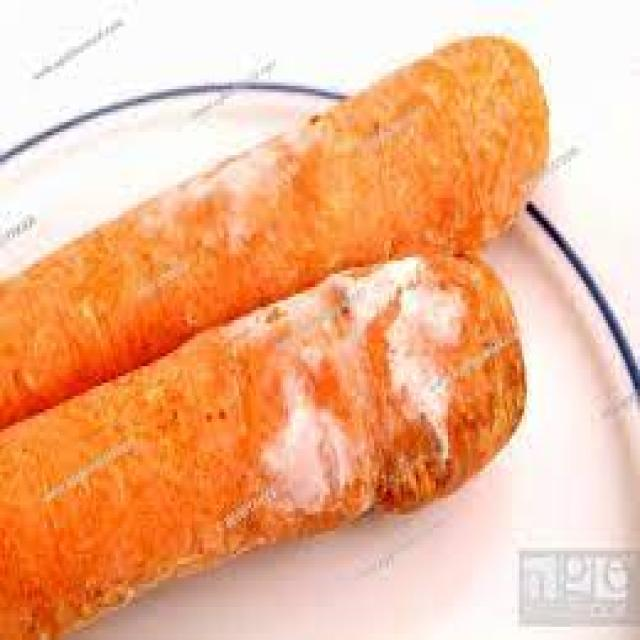Stale_Carrot: (2, 39, 549, 426), (0, 258, 525, 636)
